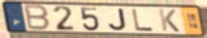2: (52, 5, 77, 31)
5: (79, 6, 100, 31)
B: (23, 3, 52, 32)
J: (107, 7, 128, 32)
K: (157, 8, 182, 33)
L: (130, 8, 156, 32)
